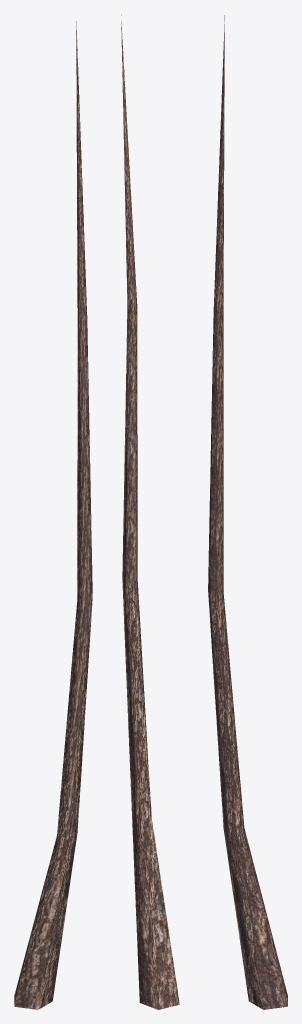
The model's file is Tree12_collider.fbx.
3 renders of one model, left to right at view 1: azimuth 90°, elevation 25°; view 2: azimuth 210°, elevation 25°; view 3: azimuth 270°, elevation 25°, orthographic. The views are drawn at different scales.
Visible parts, largest first — view 1: Tree_0; view 2: Tree_0; view 3: Tree_0.
Part boxes in pixels (box(x1,y1,x2,y2)): Tree_0: box(14, 21, 92, 1009); Tree_0: box(121, 15, 179, 1009); Tree_0: box(208, 15, 287, 1009).
Bounding box in the file's own units: 17.51 × 467 × 33.97.
